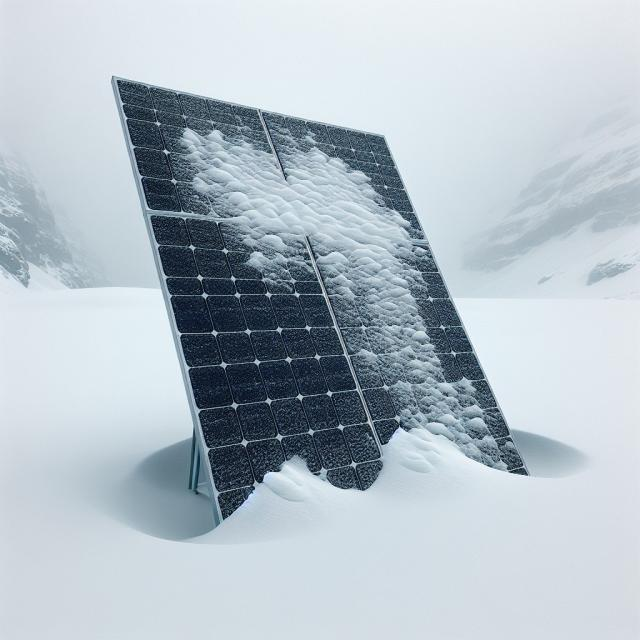Anomaly Solar Panel: (39, 0, 544, 631)
Snow: (163, 67, 546, 555)
